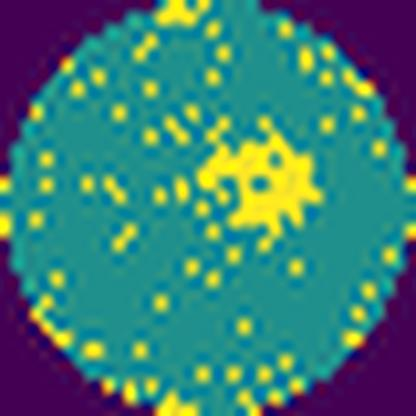Loc: (193, 112, 320, 253)
